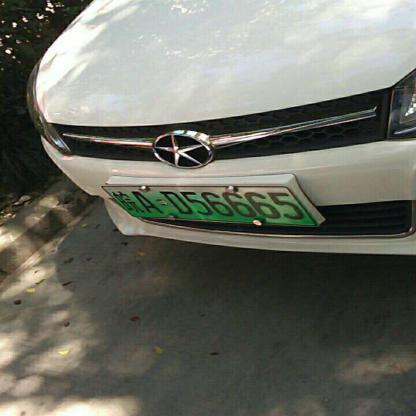lp: (102, 186, 316, 225)
